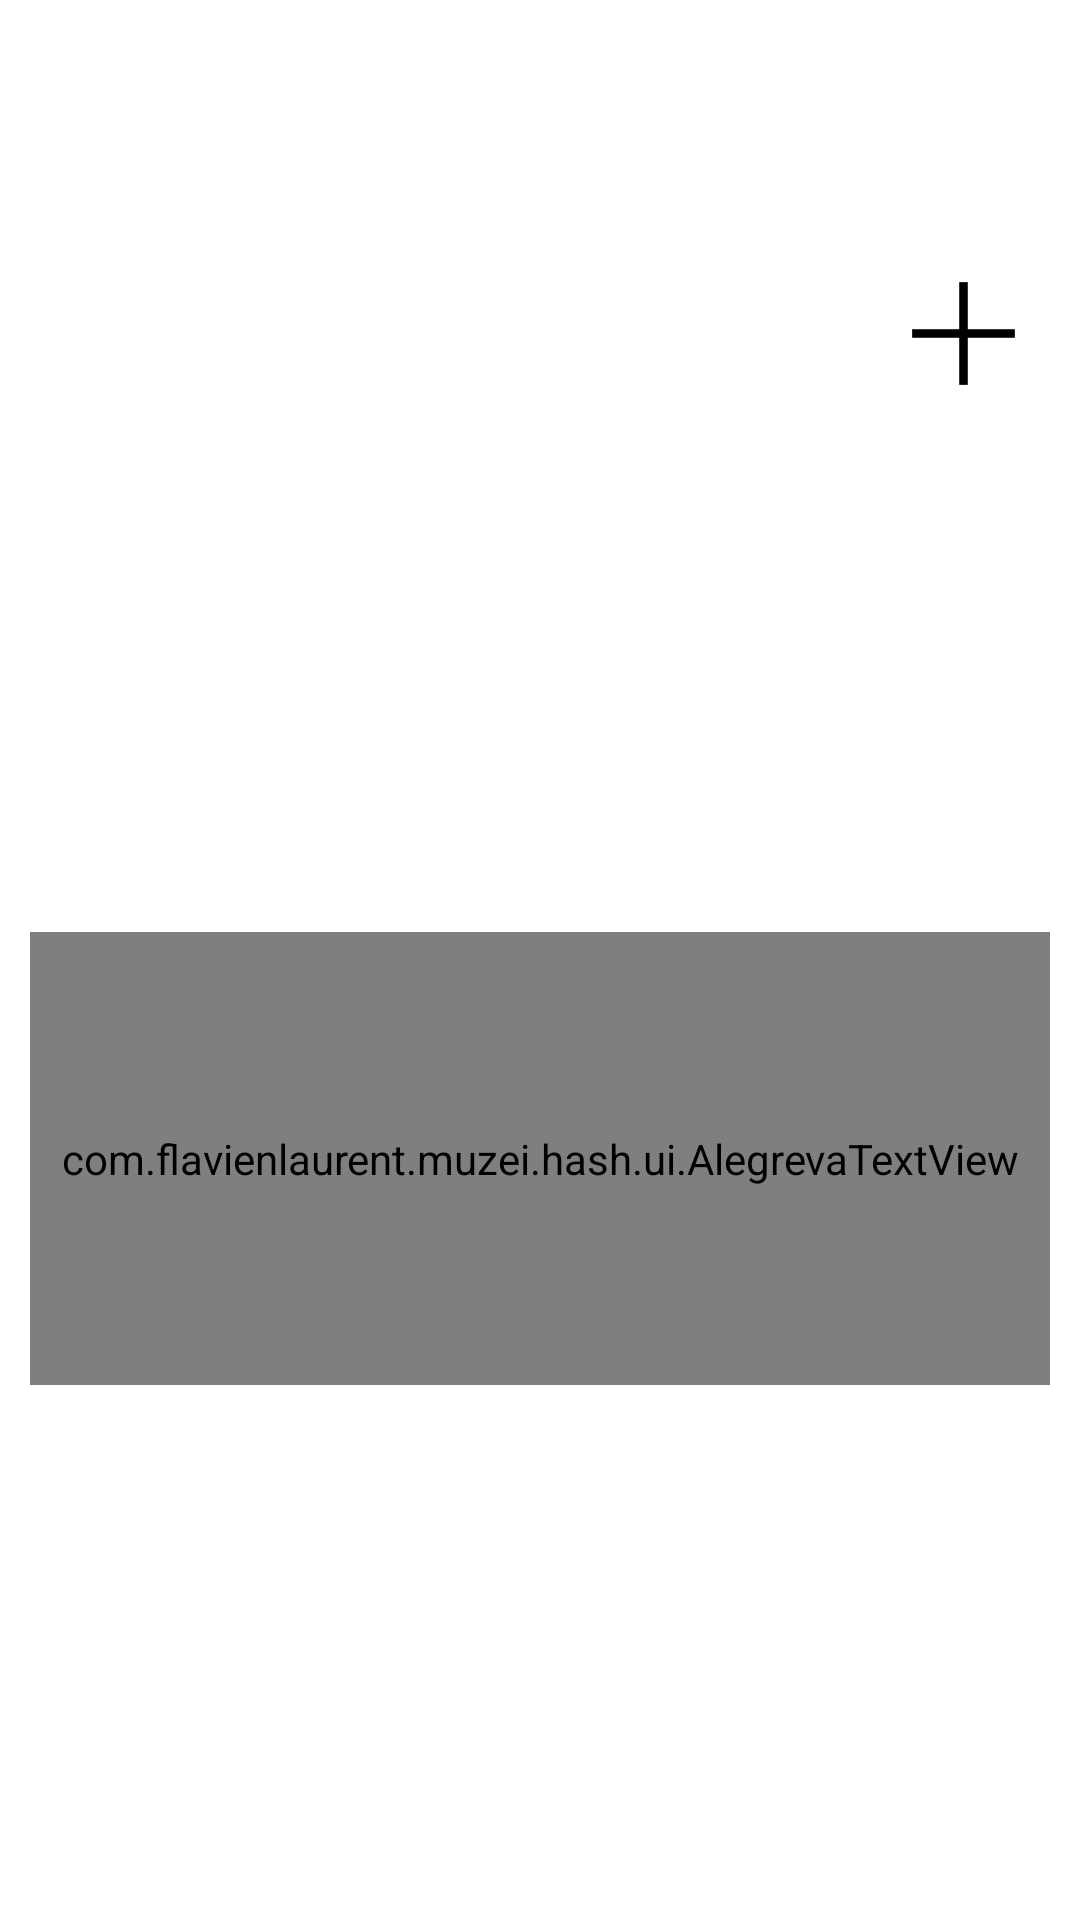

Point at icon controls on the screen. Image size 1080×1920, points as (x,y).
add: (963,333)
